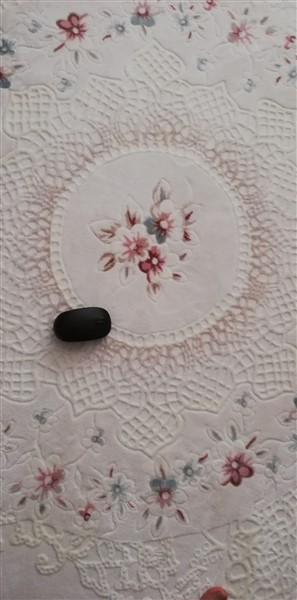mouse: (51, 304, 117, 347)
